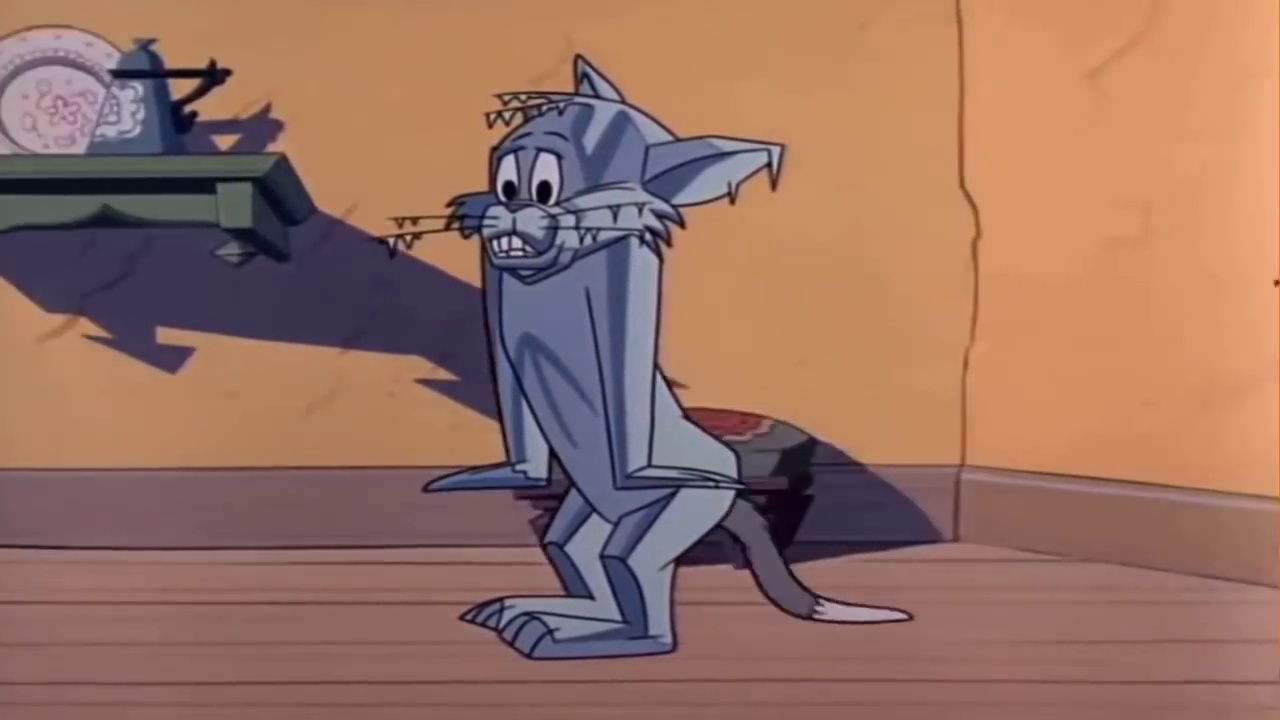face: (472, 125, 590, 278)
